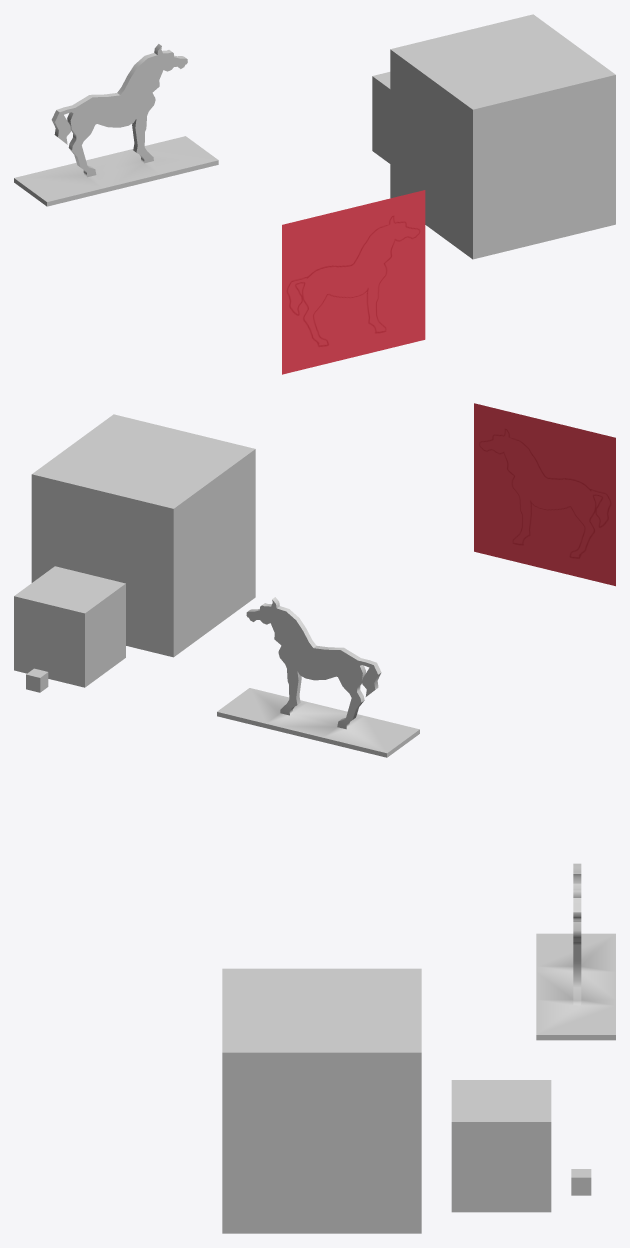
Rendered from MergedItems.FBX.
3 views of the same model, one above another, from view 1: azimuth 30°, elevation 25°; view 2: azimuth 150°, elevation 25°; view 3: azimuth 270°, elevation 25° (orthographic). The views are drawn at different scales.
Parts seen in each view (by area): view 1: 100x100_Box, Plane001, Line001, 50x50_Box; view 2: 100x100_Box, Plane001, Line001, 50x50_Box; view 3: 100x100_Box, 50x50_Box, Line001.
Part boxes in pixels (x1,y1,x2,y2): 100x100_Box: [390, 14, 615, 259]; Plane001: [282, 190, 425, 374]; Line001: [14, 44, 218, 206]; 50x50_Box: [372, 72, 390, 163]; 100x100_Box: [31, 414, 255, 657]; Plane001: [474, 403, 615, 586]; Line001: [217, 597, 419, 757]; 50x50_Box: [14, 566, 125, 687]; 100x100_Box: [222, 968, 421, 1233]; 50x50_Box: [451, 1080, 551, 1212]; Line001: [536, 863, 615, 1040].
Bounding box in the file's own units: 307 × 110 × 302.
